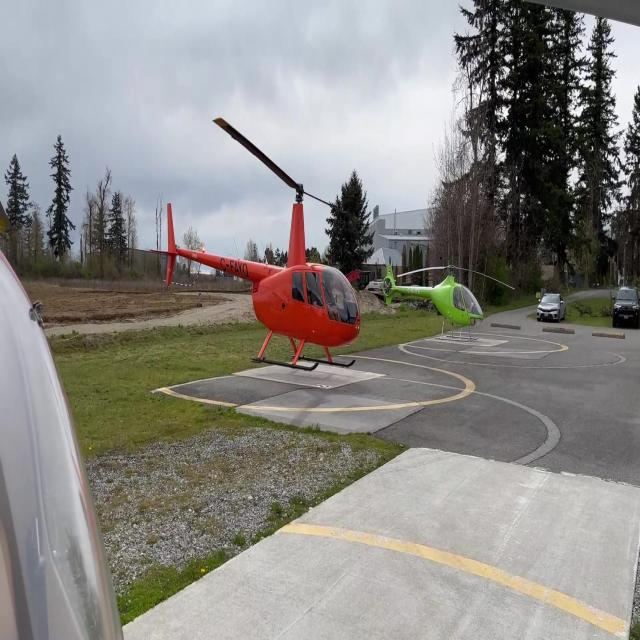CIV_HELO: (149, 181, 361, 373)
